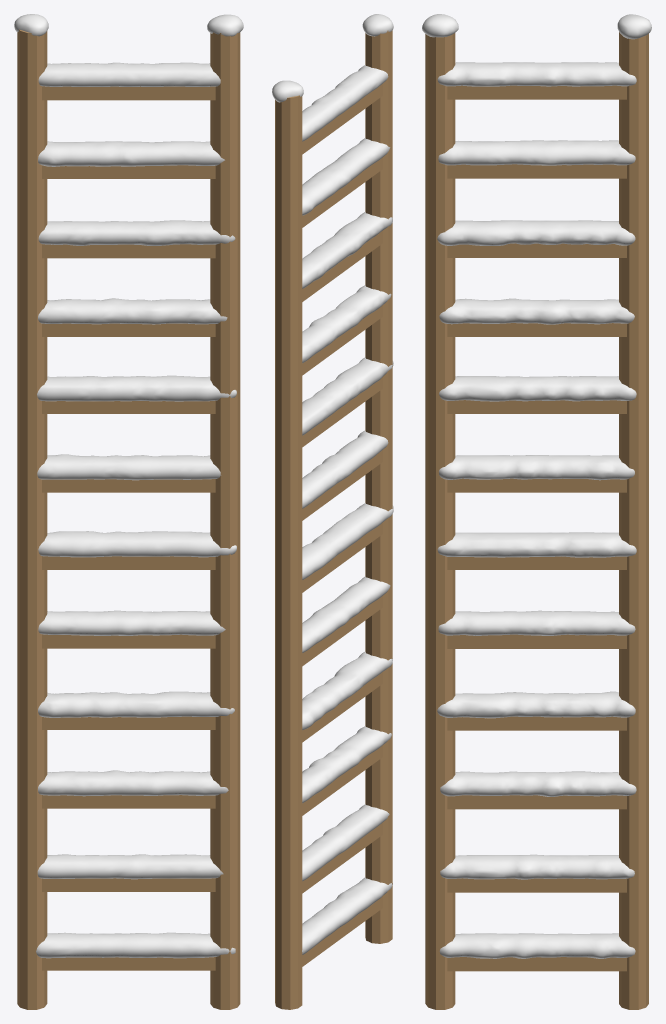
Rendered from Wooden Ladder SNOW.fbx.
3 views of the same model, side by side, from view 1: azimuth 90°, elevation 25°; view 2: azimuth 150°, elevation 25°; view 3: azimuth 270°, elevation 25° (orthographic). The views are drawn at different scales.
Parts seen in each view (by area): view 1: Cube.010, SnowBall.001; view 2: Cube.010, SnowBall.001; view 3: Cube.010, SnowBall.001.
Boxes of the visible parts, left/top/right/bottom form: Cube.010: left=17, top=29, right=240, bottom=1009; SnowBall.001: left=14, top=14, right=243, bottom=958; Cube.010: left=275, top=30, right=392, bottom=1009; SnowBall.001: left=272, top=14, right=393, bottom=954; Cube.010: left=425, top=32, right=648, bottom=1009; SnowBall.001: left=422, top=14, right=651, bottom=958.
Size of the model in its own units: 19.7 by 578 by 122.
